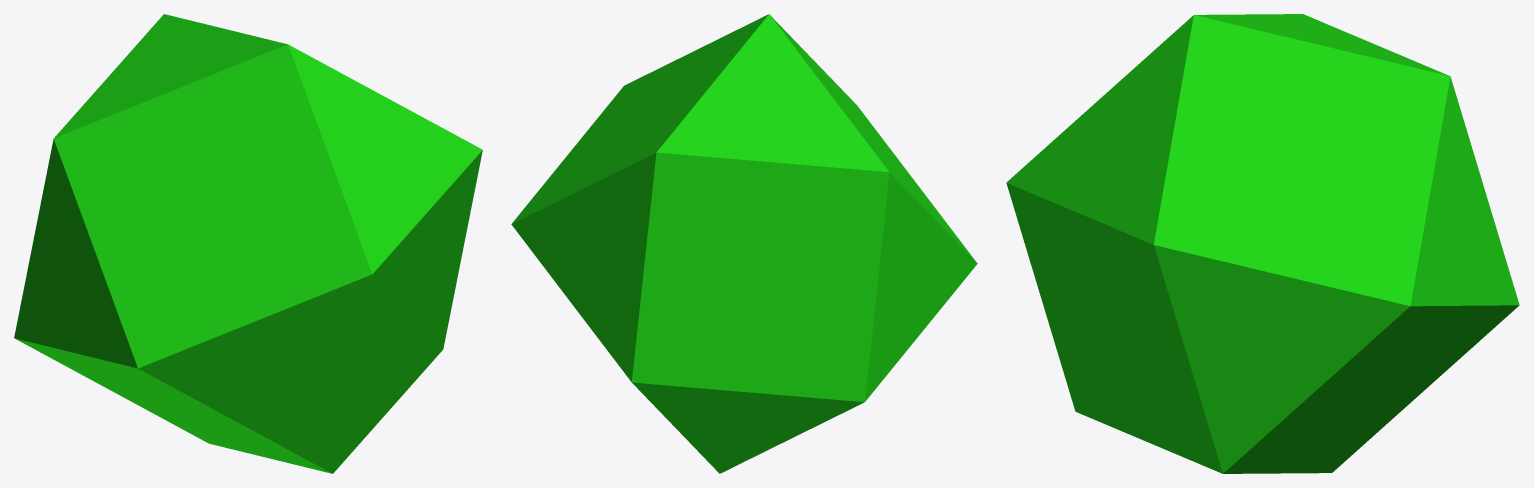
File: Leaves-Two.fbx
3 views of the same model, side by side, from view 1: azimuth 30°, elevation 25°; view 2: azimuth 150°, elevation 25°; view 3: azimuth 270°, elevation 25° (orthographic). The views are drawn at different scales.
Visible parts, largest first — view 1: Hedra004; view 2: Hedra004; view 3: Hedra004.
Boxes of the visible parts, left/top/right/bottom form: Hedra004: left=14, top=14, right=482, bottom=473; Hedra004: left=511, top=14, right=977, bottom=473; Hedra004: left=1006, top=14, right=1519, bottom=473.
Size of the model in its own units: 60.32 by 70.42 by 70.33.
